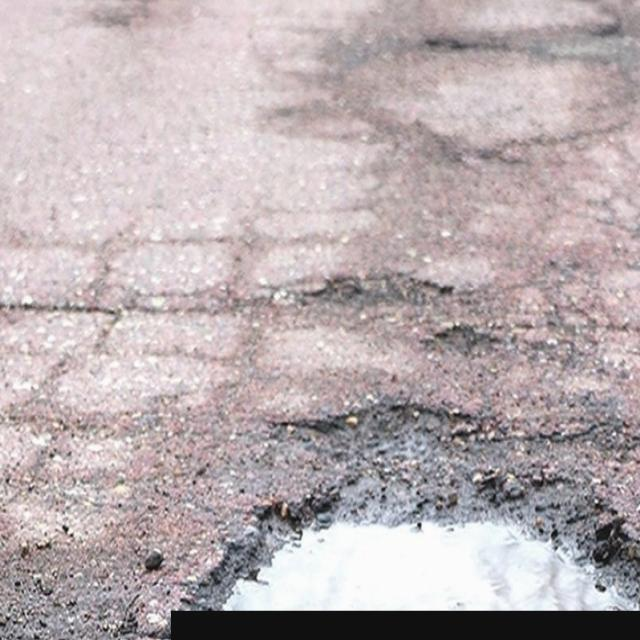road-pothole: (174, 441, 639, 610)
